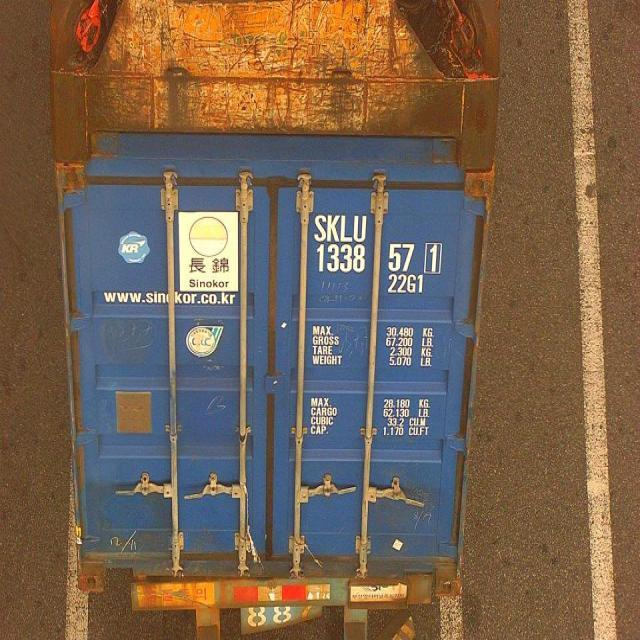ISO: (387, 275, 425, 296)
container_number: (313, 208, 452, 275)
